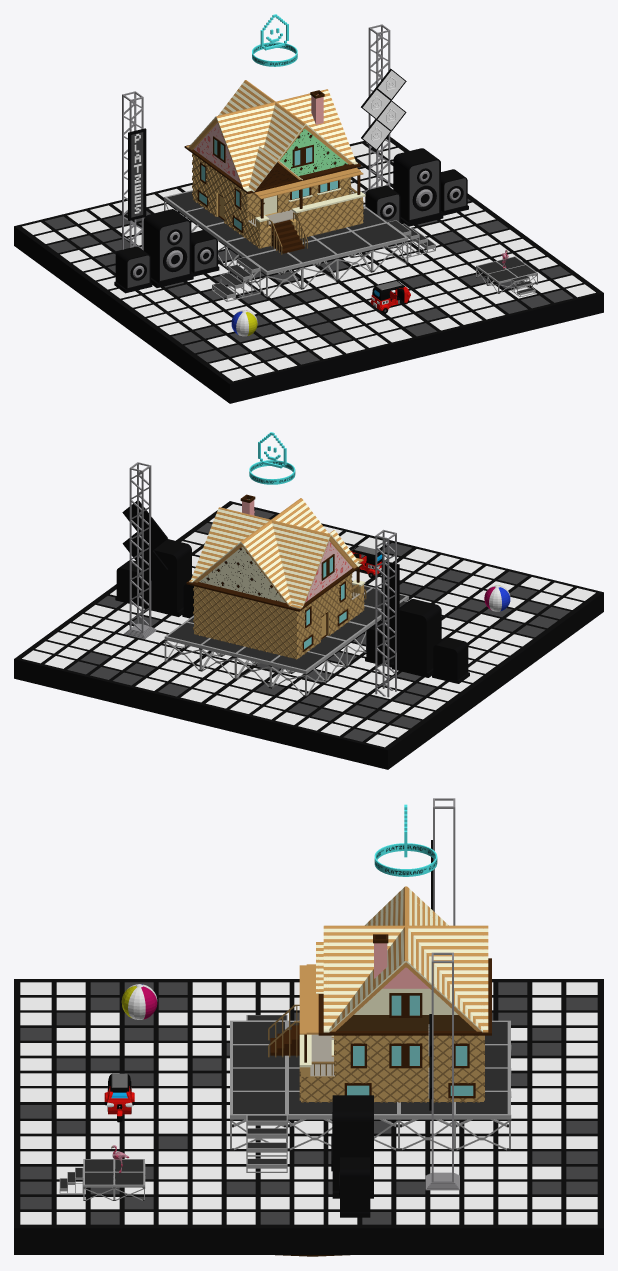
3 views of the same model, one above another, from view 1: azimuth 30°, elevation 25°; view 2: azimuth 150°, elevation 25°; view 3: azimuth 270°, elevation 25° (orthographic). The views are drawn at different scales.
Visible parts, largest first — view 1: Cube.008, Cube.1102, TYPE_PREMIUM, VEHICLES_TUC_TUC, OBJRANDOM_BEACHBALL; view 2: Cube.008, Cube.1102, TYPE_PREMIUM, VEHICLES_TUC_TUC, OBJRANDOM_BEACHBALL; view 3: Cube.008, Cube.1102, TYPE_PREMIUM, VEHICLES_TUC_TUC, OBJRANDOM_BEACHBALL.
Boxes of the visible parts, bbox=[...] form: Cube.008: bbox=[14, 24, 603, 403]; Cube.1102: bbox=[184, 80, 365, 254]; TYPE_PREMIUM: bbox=[252, 14, 297, 66]; VEHICLES_TUC_TUC: bbox=[370, 281, 410, 313]; OBJRANDOM_BEACHBALL: bbox=[231, 310, 257, 336]; Cube.008: bbox=[14, 462, 603, 769]; Cube.1102: bbox=[186, 494, 366, 659]; TYPE_PREMIUM: bbox=[249, 432, 295, 484]; VEHICLES_TUC_TUC: bbox=[351, 545, 382, 578]; OBJRANDOM_BEACHBALL: bbox=[484, 585, 510, 611]; Cube.008: bbox=[14, 798, 603, 1254]; Cube.1102: bbox=[268, 886, 491, 1102]; TYPE_PREMIUM: bbox=[374, 804, 437, 876]; VEHICLES_TUC_TUC: bbox=[104, 1073, 134, 1122]; OBJRANDOM_BEACHBALL: bbox=[121, 984, 157, 1019].
Bounding box in the file's own units: 4000 × 2578 × 4000.
43 materials, 3 textured.
